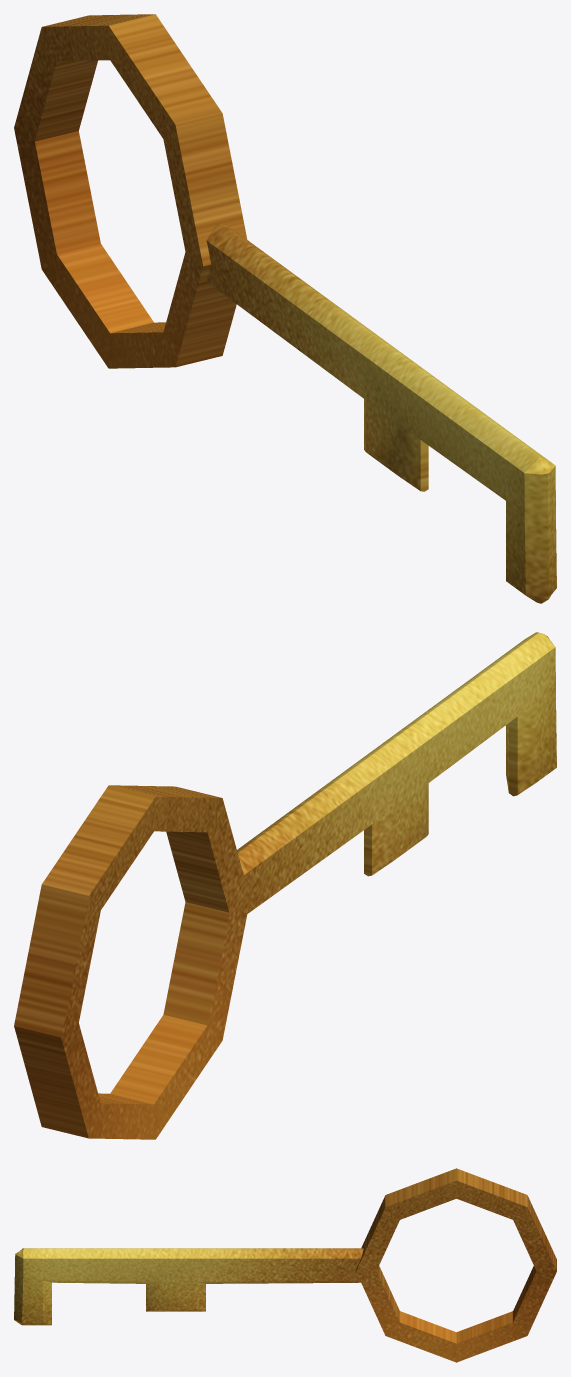
Rendered from SM_Gold Key_01.fbx.
The picture shows the model from 3 angles, top to bottom: view 1: azimuth 30°, elevation 25°; view 2: azimuth 150°, elevation 25°; view 3: azimuth 270°, elevation 25°; orthographic projection. The views are drawn at different scales.
Parts seen in each view (by area): view 1: Gold Key; view 2: Gold Key; view 3: Gold Key.
Part boxes in pixels (x1,y1,x2,y2): Gold Key: (14, 14, 556, 603); Gold Key: (14, 632, 556, 1139); Gold Key: (14, 1168, 556, 1362).
Size of the model in its own units: 3.26 by 22.66 by 61.23.
